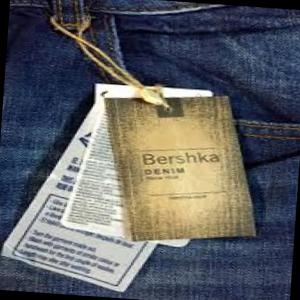bershka: (68, 95, 300, 236)
